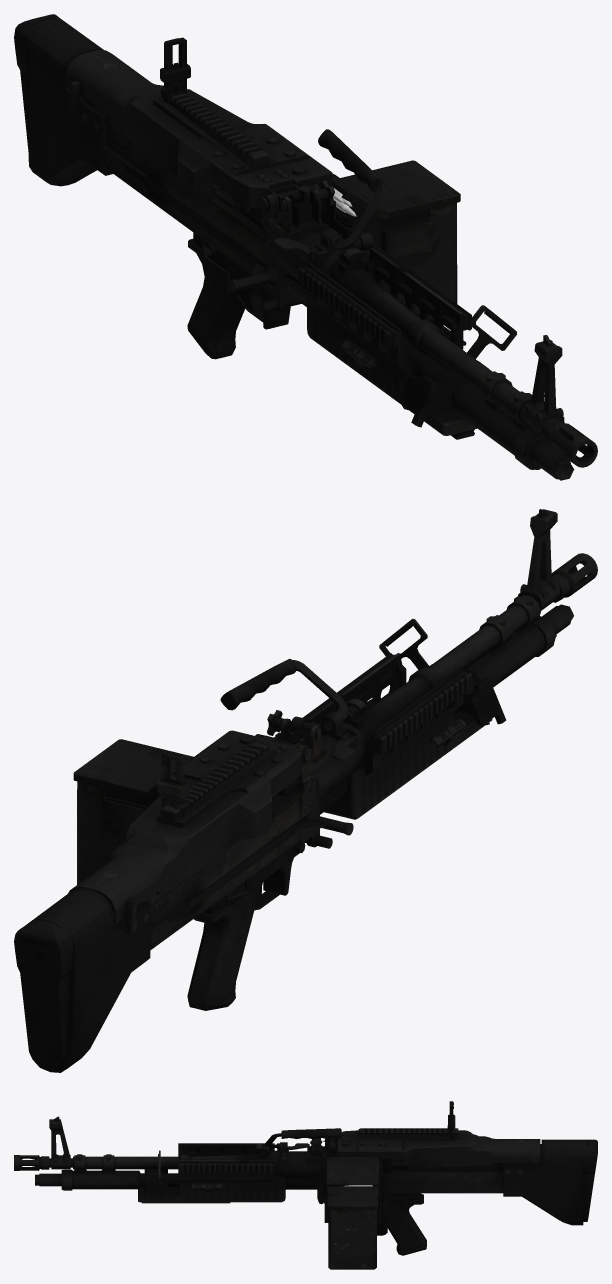
The picture shows the model from 3 angles, top to bottom: view 1: azimuth 30°, elevation 25°; view 2: azimuth 150°, elevation 25°; view 3: azimuth 270°, elevation 25°; orthographic projection. The views are drawn at different scales.
Visible parts, largest first — view 1: Mesh_0009, MAGWELL, BOXMAG, FRONTSIGHT, CARRYHANDLE, BOLT, REARSIGHT, MAG_LID; view 2: Mesh_0009, MAGWELL, BOXMAG, FRONTSIGHT, CARRYHANDLE, BOLT, REARSIGHT; view 3: Mesh_0009, MAGWELL, BOXMAG, MAG_LID, FRONTSIGHT, CARRYHANDLE.
Boxes of the visible parts, x1=… form: Mesh_0009: x1=14, y1=14, x2=597, y2=480; MAGWELL: x1=66, y1=50, x2=332, y2=211; BOXMAG: x1=322, y1=160, x2=460, y2=320; FRONTSIGHT: x1=522, y1=335, x2=564, y2=433; CARRYHANDLE: x1=318, y1=129, x2=385, y2=249; BOLT: x1=153, y1=183, x2=276, y2=292; REARSIGHT: x1=160, y1=37, x2=190, y2=103; MAG_LID: x1=332, y1=173, x2=388, y2=220; Mesh_0009: x1=14, y1=553, x2=597, y2=1072; MAGWELL: x1=68, y1=730, x2=312, y2=934; BOXMAG: x1=73, y1=739, x2=193, y2=884; FRONTSIGHT: x1=518, y1=509, x2=559, y2=610; CARRYHANDLE: x1=220, y1=658, x2=347, y2=727; BOLT: x1=189, y1=809, x2=353, y2=908; REARSIGHT: x1=157, y1=751, x2=188, y2=818; Mesh_0009: x1=14, y1=1137, x2=597, y2=1255; MAGWELL: x1=325, y1=1128, x2=540, y2=1169; BOXMAG: x1=324, y1=1178, x2=380, y2=1269; MAG_LID: x1=326, y1=1156, x2=378, y2=1189; FRONTSIGHT: x1=49, y1=1116, x2=70, y2=1169; CARRYHANDLE: x1=265, y1=1128, x2=341, y2=1149.
Size of the model in its own units: 28.44 by 33.46 by 118.
